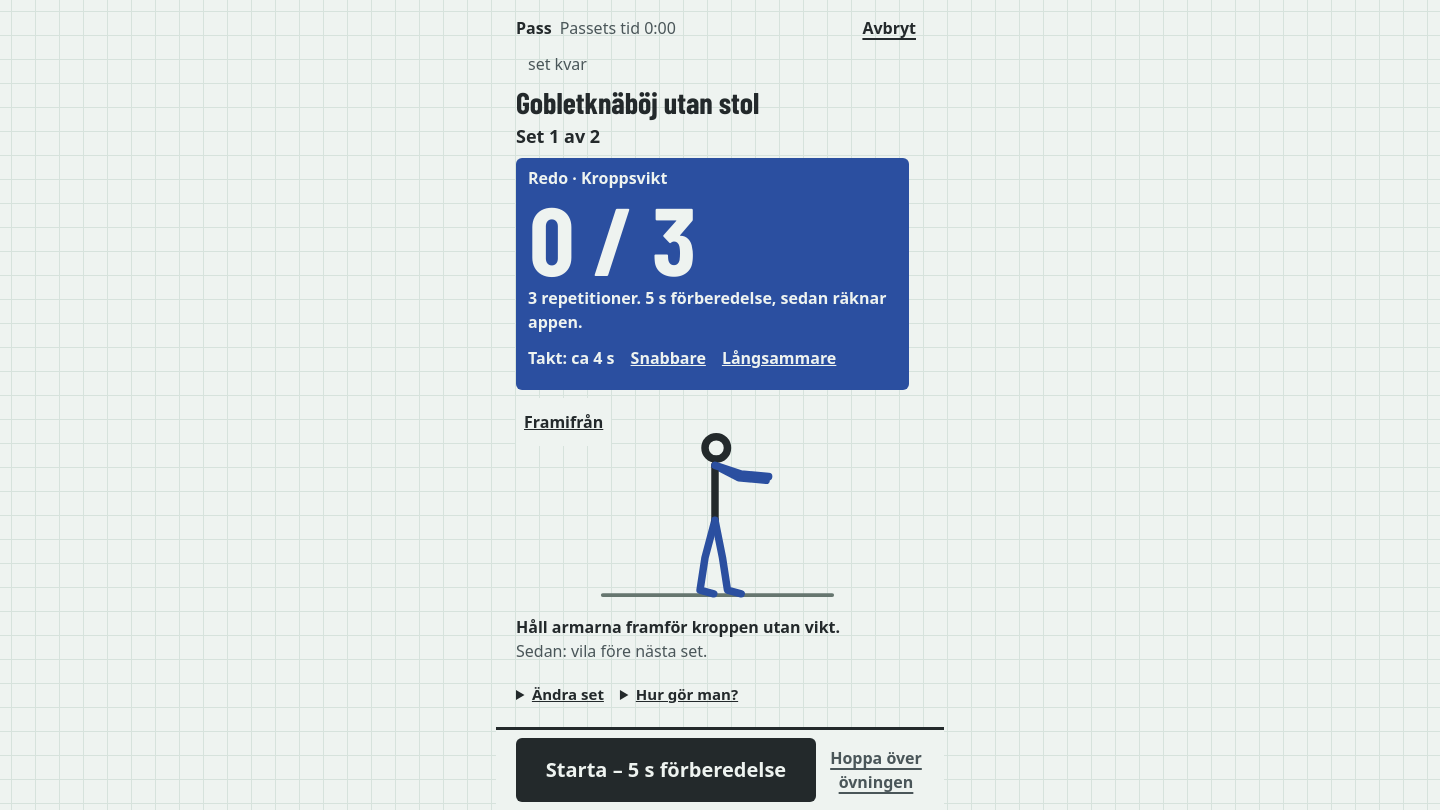
Scenario: pace buttons › slows and quickens the suggested beat and remembers it
Expected: the text "Takt: ca 4 s" is shown, [528,346,615,370]
Click the button "Långsammare" at (779, 358), box [722,334,836,382]
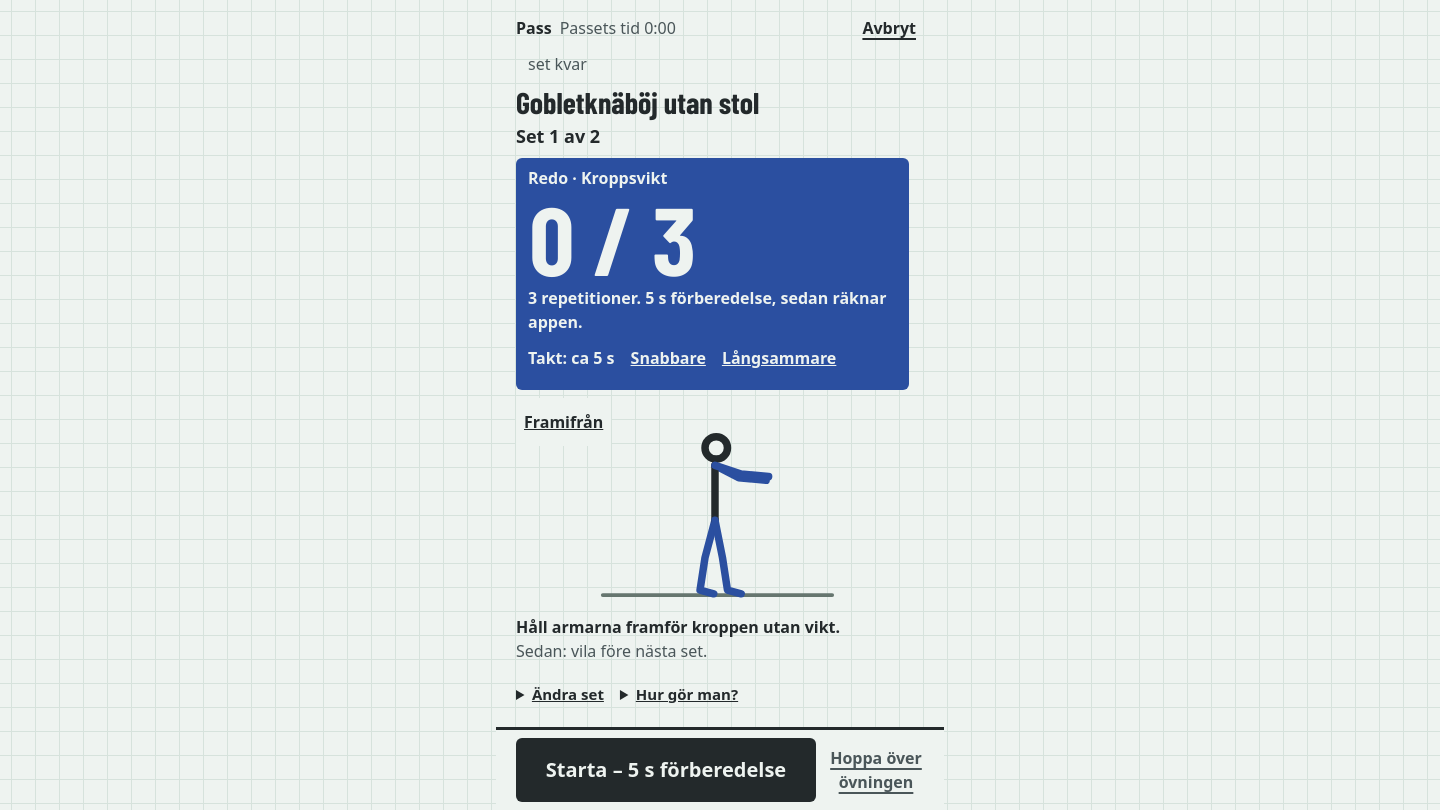
Expected: the text "Takt: ca 5 s" is shown, [528,346,615,370]
Click the button "Snabbare" at (668, 358), box [631,334,706,382]
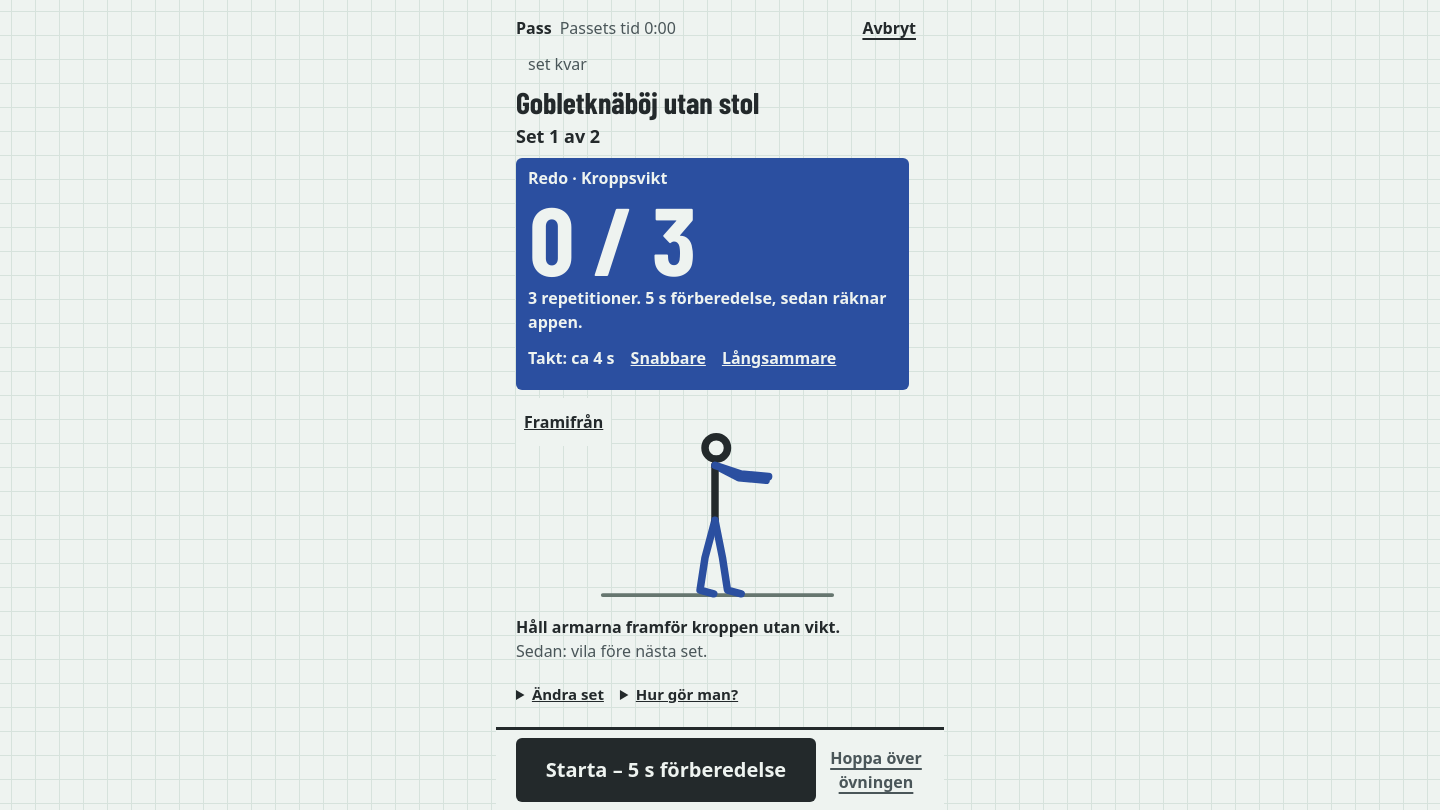
Click the button "Snabbare" at (668, 358), box [631,334,706,382]
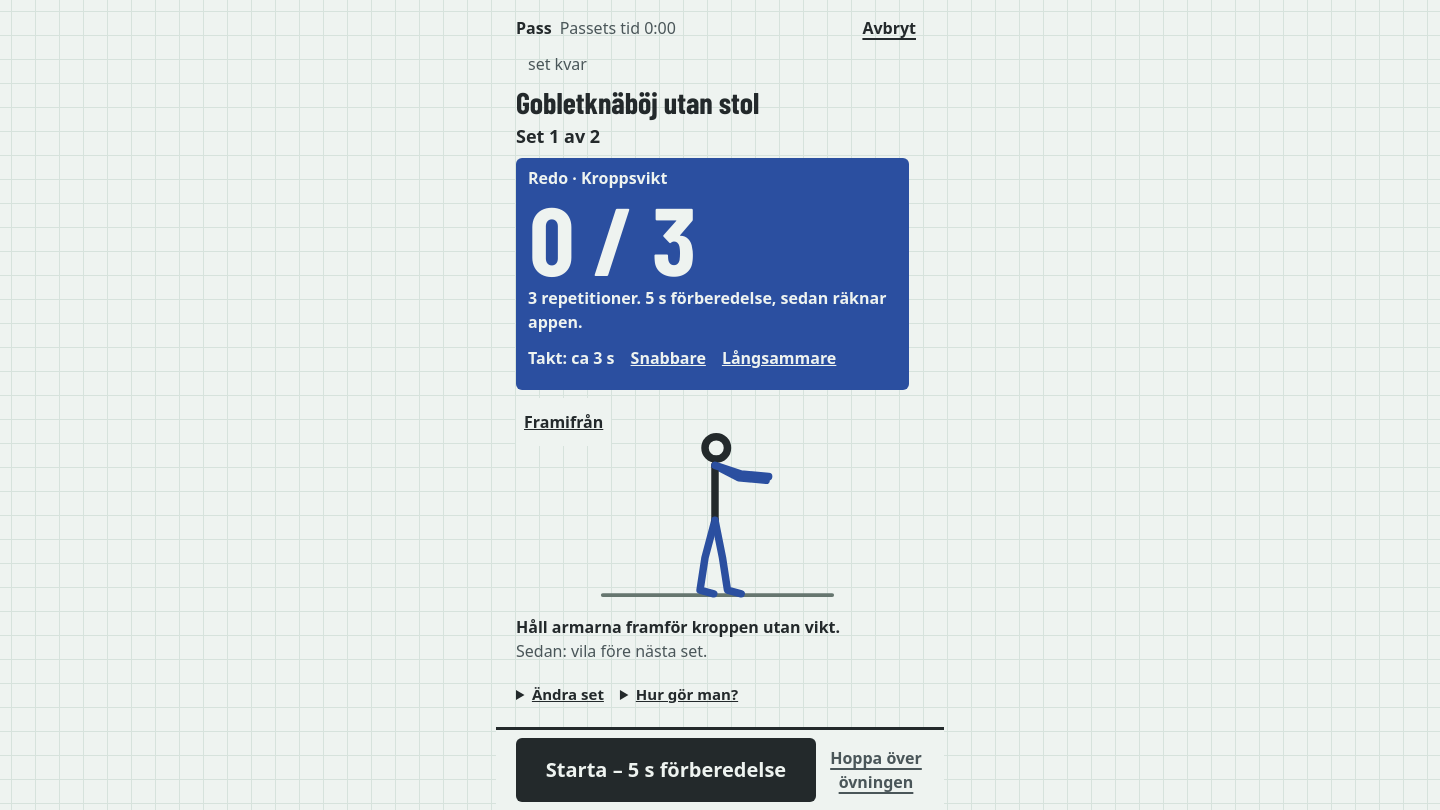
Expected: the text "Takt: ca 3 s" is shown, [528,346,615,370]
